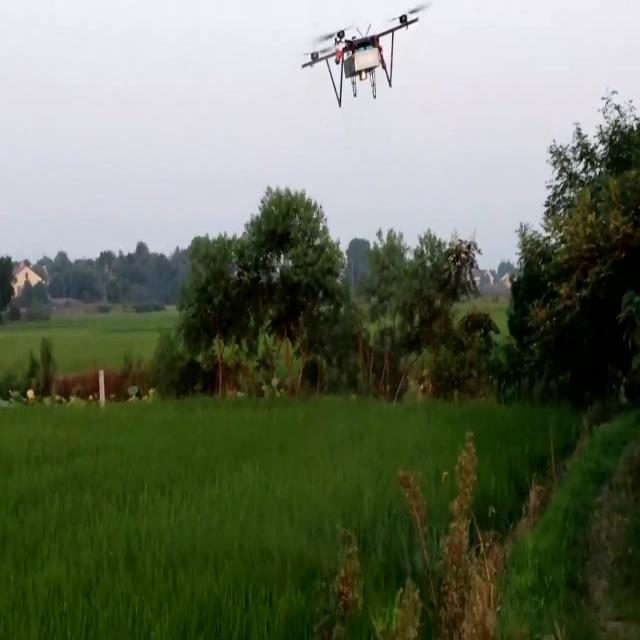UAV: (300, 1, 432, 108)
